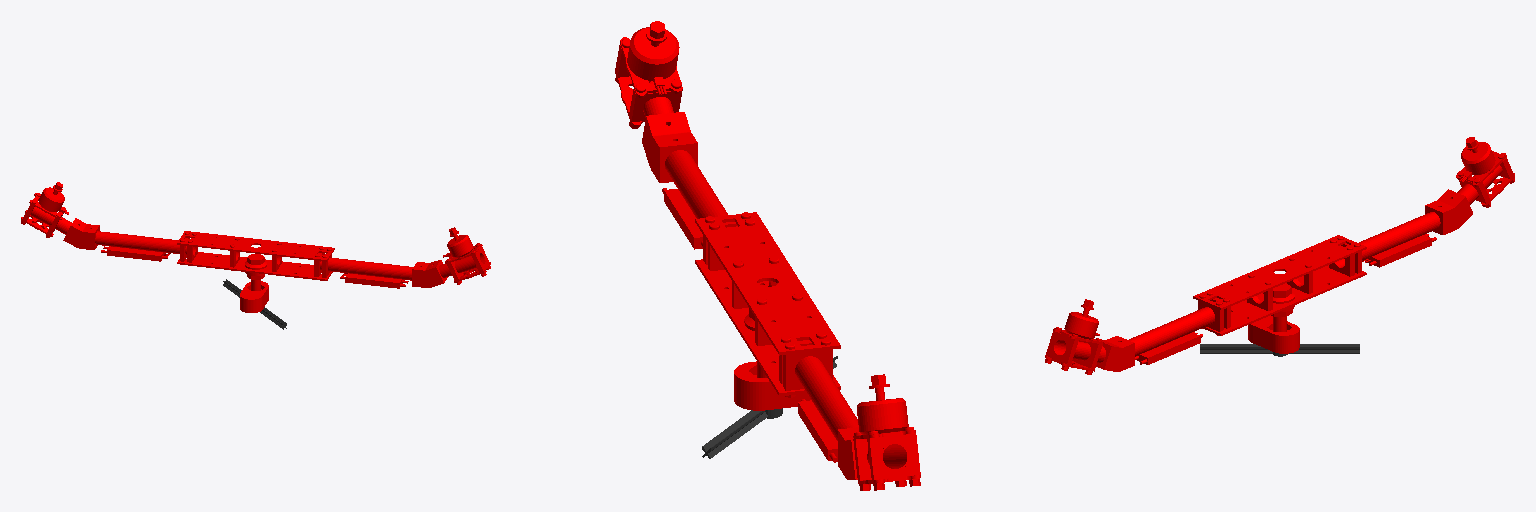
robot.urdf — folding_drone_base_v2:
<robot name="folding_drone_base_v2">
  <link name="base_link">
    <inertial>
      <origin xyz="0.00 0.0 -0.02258" rpy="0 0 0"/>
      <mass value="99.19253"/>
      <inertia ixx="0.0075" ixy="-0.0058" ixz="0" iyy="0.0075" iyz="0" izz="0.0136"/>
    </inertial>
    <visual name="base_link_visual">
      <origin xyz="0.0 0.0 0" rpy="0.0 0 1.57"/>
      <geometry>
        <mesh filename="model://folding_drone_base_v2/meshes/main_assembly_2.0_bottom_half_m_donottranslate.STL" scale="1 1 1"/>
      </geometry>
      <material name="black">
        <color rgba="0 0 0 1.0"/>
      </material>
    </visual>
    <collision name="base_link_collision_0">
      <origin xyz="0 0 0" rpy="0 0 0.78539816339"/>
      <geometry>
        <box size="0.5 0.13 0.08"/>
      </geometry>
    </collision>
    <collision name="base_link_collision_1">
      <origin xyz="0.03 -0.03 -.058" rpy="-0.25 0 0.78"/>
      <geometry>
        <box size="0.015 0.015 0.045"/>
      </geometry>
    </collision>
    <collision name="base_link_collision_2">
      <origin xyz="-0.03 0.03 -.058" rpy="0.25 0 0.78"/>
      <geometry>
        <box size="0.015 0.015 0.045"/>
      </geometry>
    </collision>
    <collision name="base_link_collision_3">
      <origin xyz="0.04 -0.04 -.0795" rpy="0 0 0.78"/>
      <geometry>
        <box size="0.25 0.015 0.015"/>
      </geometry>
    </collision>
    <collision name="base_link_collision_4">
      <origin xyz="-0.04 0.04 -.0795" rpy="0 0 0.78"/>
      <geometry>
        <box size="0.25 0.015 0.015"/>
      </geometry>
    </collision>
  </link>

 <link name="upper_arm">
    <inertial>
      <origin xyz="0 0 0.058" rpy="0 0 0"/>
      <mass value="0.38548"/>
      <inertia ixx="0.0051" ixy="0.0049" ixz="0" iyy="0.0051" iyz="0" izz="0.0102"/>
    </inertial>
    <visual name="upper_arm_visual">
      <origin xyz="0.0 0.0 0" rpy="0 0 1.57"/>
      <geometry>
        <mesh filename="model://folding_drone_base_v2/meshes/main_assembly_2.0_top_half_m_donottranslate.STL" scale="1 1 1"/>
      </geometry>
      <material name="red">
        <color rgba="1 0 0 1.0"/>
      </material>
    </visual>
    <collision name="upper_arm_collision">
      <origin xyz="0 0 0.09" rpy="0 0 -0.78539816339"/>
      <geometry>
        <box size="0.5 0.06 0.12"/>
      </geometry>
    </collision>
  </link>

  <joint name="upper_arm_joint" type="revolute">
    <parent link="base_link"/>
    <child link="upper_arm"/>
    <origin xyz="0 0 0" rpy="0 0 0"/>
    <axis xyz="0 0 1"/>
    <limit lower="0.0" upper="1.57" effort="1.8639"/>
    <dynamics damping="0.1" friction="0.1"/>
  </joint>

  <link name="rotor_0">
    <inertial>
      <origin xyz="0.24131 0.0 0.095" rpy="0 -0.4369 0"/>
      <mass value="0.00386"/>
      <inertia ixx="0.4284e-05" ixy="0.0044e-05" ixz="0" iyy="0.0044e-05" iyz="0" izz="0.4300e-05"/>
    </inertial>
    <visual name="rotor_0_visual">
      <origin xyz="-0.007 0.06994 -0.00375" rpy="1.57079632679 0 0"/>
      <geometry>
        <mesh filename="model://folding_drone_base/meshes/5045_propeller_CW.STL" scale="0.001 0.001 0.001"/>
      </geometry>
      <material name="dark_grey">
        <color rgba="0.25 0.25 0.25 1.0"/>
      </material>
    </visual>
    <collision name="rotor_0_collision">
      <origin xyz="0 0 0" rpy="0 0 1.57079632679"/>
      <geometry>
        <box size="0.1592307692307692 0.016923076923076923 0.0008461538461538462"/>
      </geometry>
    </collision>
  </link>

  <joint name="rotor_0_joint" type="revolute">
    <parent link="upper_arm"/>
    <child link="rotor_0"/>
    <axis xyz="0 0 1"/>
    <limit lower="-1e+16" upper="1e+16" effort="1.8639" velocity="1.0"/>
    <dynamics damping="0.1" friction="0.1"/>
  </joint>

  <link name="rotor_1">
    <inertial>
      <origin xyz="-0.24131 0.0 0.095" rpy="0 0.4369 0"/>
      <mass value="0.00386"/>
      <inertia ixx="0.4284e-05" ixy="0.0044e-05" ixz="0" iyy="0.0044e-05" iyz="0" izz="0.4300e-05"/>
    </inertial>
    <visual name="rotor_1_visual">
      <origin xyz="-0.007 0.06994 -0.00375" rpy="1.57079632679 0 0"/>
      <geometry>
        <mesh filename="model://folding_drone_base/meshes/5045_propeller_CW.STL" scale="0.001 0.001 0.001"/>
      </geometry>
      <material name="dark_grey">
        <color rgba="0.25 0.25 0.25 1.0"/>
      </material>
    </visual>
    <collision name="rotor_1_collision">
      <origin xyz="0 0 0" rpy="0 0 1.57079632679"/>
      <geometry>
        <box size="0.1592307692307692 0.016923076923076923 0.0008461538461538462"/>
      </geometry>
    </collision>
  </link>

  <joint name="rotor_1_joint" type="revolute">
    <parent link="upper_arm"/>
    <child link="rotor_1"/>
    <axis xyz="0 0 1"/>
    <limit lower="-1e+16" upper="1e+16" effort="1.8639" velocity="1.0"/>
    <dynamics damping="0.1" friction="0.1"/>
  </joint>

  <link name="rotor_2">
    <inertial>
      <origin xyz="0.17063 0.17063 0.03745" rpy="0.4369 0 -0.7854"/>
      <mass value="0.00386"/>
      <inertia ixx="0.4284e-05" ixy="0.0044e-05" ixz="0" iyy="0.0044e-05" iyz="0" izz="0.4300e-05"/>
    </inertial>
    <visual name="rotor_2_visual">
      <origin xyz="-0.007 0.06994 -0.00375" rpy="1.57079632679 0 0"/>
      <geometry>
        <mesh filename="model://folding_drone_base/meshes/5045_propeller_CCW.STL" scale="0.001 0.001 0.001"/>
      </geometry>
      <material name="dark_grey">
        <color rgba="0.25 0.25 0.25 1.0"/>
      </material>
    </visual>
    <collision name="rotor_2_collision">
      <origin xyz="0 0 0" rpy="0 0 1.57079632679"/>
      <geometry>
        <box size="0.1592307692307692 0.016923076923076923 0.0008461538461538462"/>
      </geometry>
    </collision>
  </link>

  <joint name="rotor_2_joint" type="revolute">
    <parent link="base_link"/>
    <child link="rotor_2"/>
    <axis xyz="0 0 1"/>
    <limit lower="-1e+16" upper="1e+16" effort="1.8639" velocity="1.0"/>
    <dynamics damping="0.1" friction="0.1"/>
  </joint>

  <link name="rotor_3">
    <inertial>
      <origin xyz="-0.17063 -0.17063 0.03745" rpy="-0.4369 0 -0.7854"/>
      <mass value="0.00386"/>
      <inertia ixx="0.4284e-05" ixy="0.0044e-05" ixz="0" iyy="0.0044e-05" iyz="0" izz="0.4300e-05"/>
    </inertial>
    <visual name="rotor_3_visual">
      <origin xyz="-0.007 0.06994 -0.00375" rpy="1.57079632679 0 0"/>
      <geometry>
        <mesh filename="model://folding_drone_base/meshes/5045_propeller_CCW.STL" scale="0.001 0.001 0.001"/>
      </geometry>
      <material name="dark_grey">
        <color rgba="0.25 0.25 0.25 1.0"/>
      </material>
    </visual>
    <collision name="rotor_3_collision">
      <origin xyz="0 0 0" rpy="0 0 1.57079632679"/>
      <geometry>
        <box size="0.1592307692307692 0.016923076923076923 0.0008461538461538462"/>
      </geometry>
    </collision>
  </link>

  <joint name="rotor_3_joint" type="revolute">
    <parent link="base_link"/>
    <child link="rotor_3"/>
    <axis xyz="0 0 1"/>
    <limit lower="-1e+16" upper="1e+16" effort="1.8639" velocity="1.0"/>
    <dynamics damping="0.1" friction="0.1"/>
  </joint>
</robot>

--- Render facts (derived) ---
The picture shows the robot from 3 angles, left to right: view 1: azimuth 30°, elevation 25°; view 2: azimuth 150°, elevation 25°; view 3: azimuth 270°, elevation 25°; orthographic projection.
Robot: folding_drone_base_v2 — 6 links, 5 joints (5 revolute); root link base_link; default pose: all joints at 0.
Links seen in each view (by area): view 1: upper_arm; view 2: upper_arm, rotor_0; view 3: upper_arm, rotor_0, rotor_2.
Boxes of the visible links, left/top/right/bottom form: upper_arm: left=21, top=182, right=490, bottom=312; upper_arm: left=615, top=21, right=920, bottom=490; rotor_0: left=702, top=356, right=837, bottom=458; upper_arm: left=1045, top=137, right=1514, bottom=374; rotor_0: left=1200, top=344, right=1359, bottom=356; rotor_2: left=1200, top=344, right=1359, bottom=353.
Bounding box of the posed robot: 0.4117 × 0.4123 × 0.1309 m (x, y, z).
5 mesh visuals loaded from 4 distinct referenced files (3 binary STL); not drawn: 1 (reference not matched to a file when rendering).
